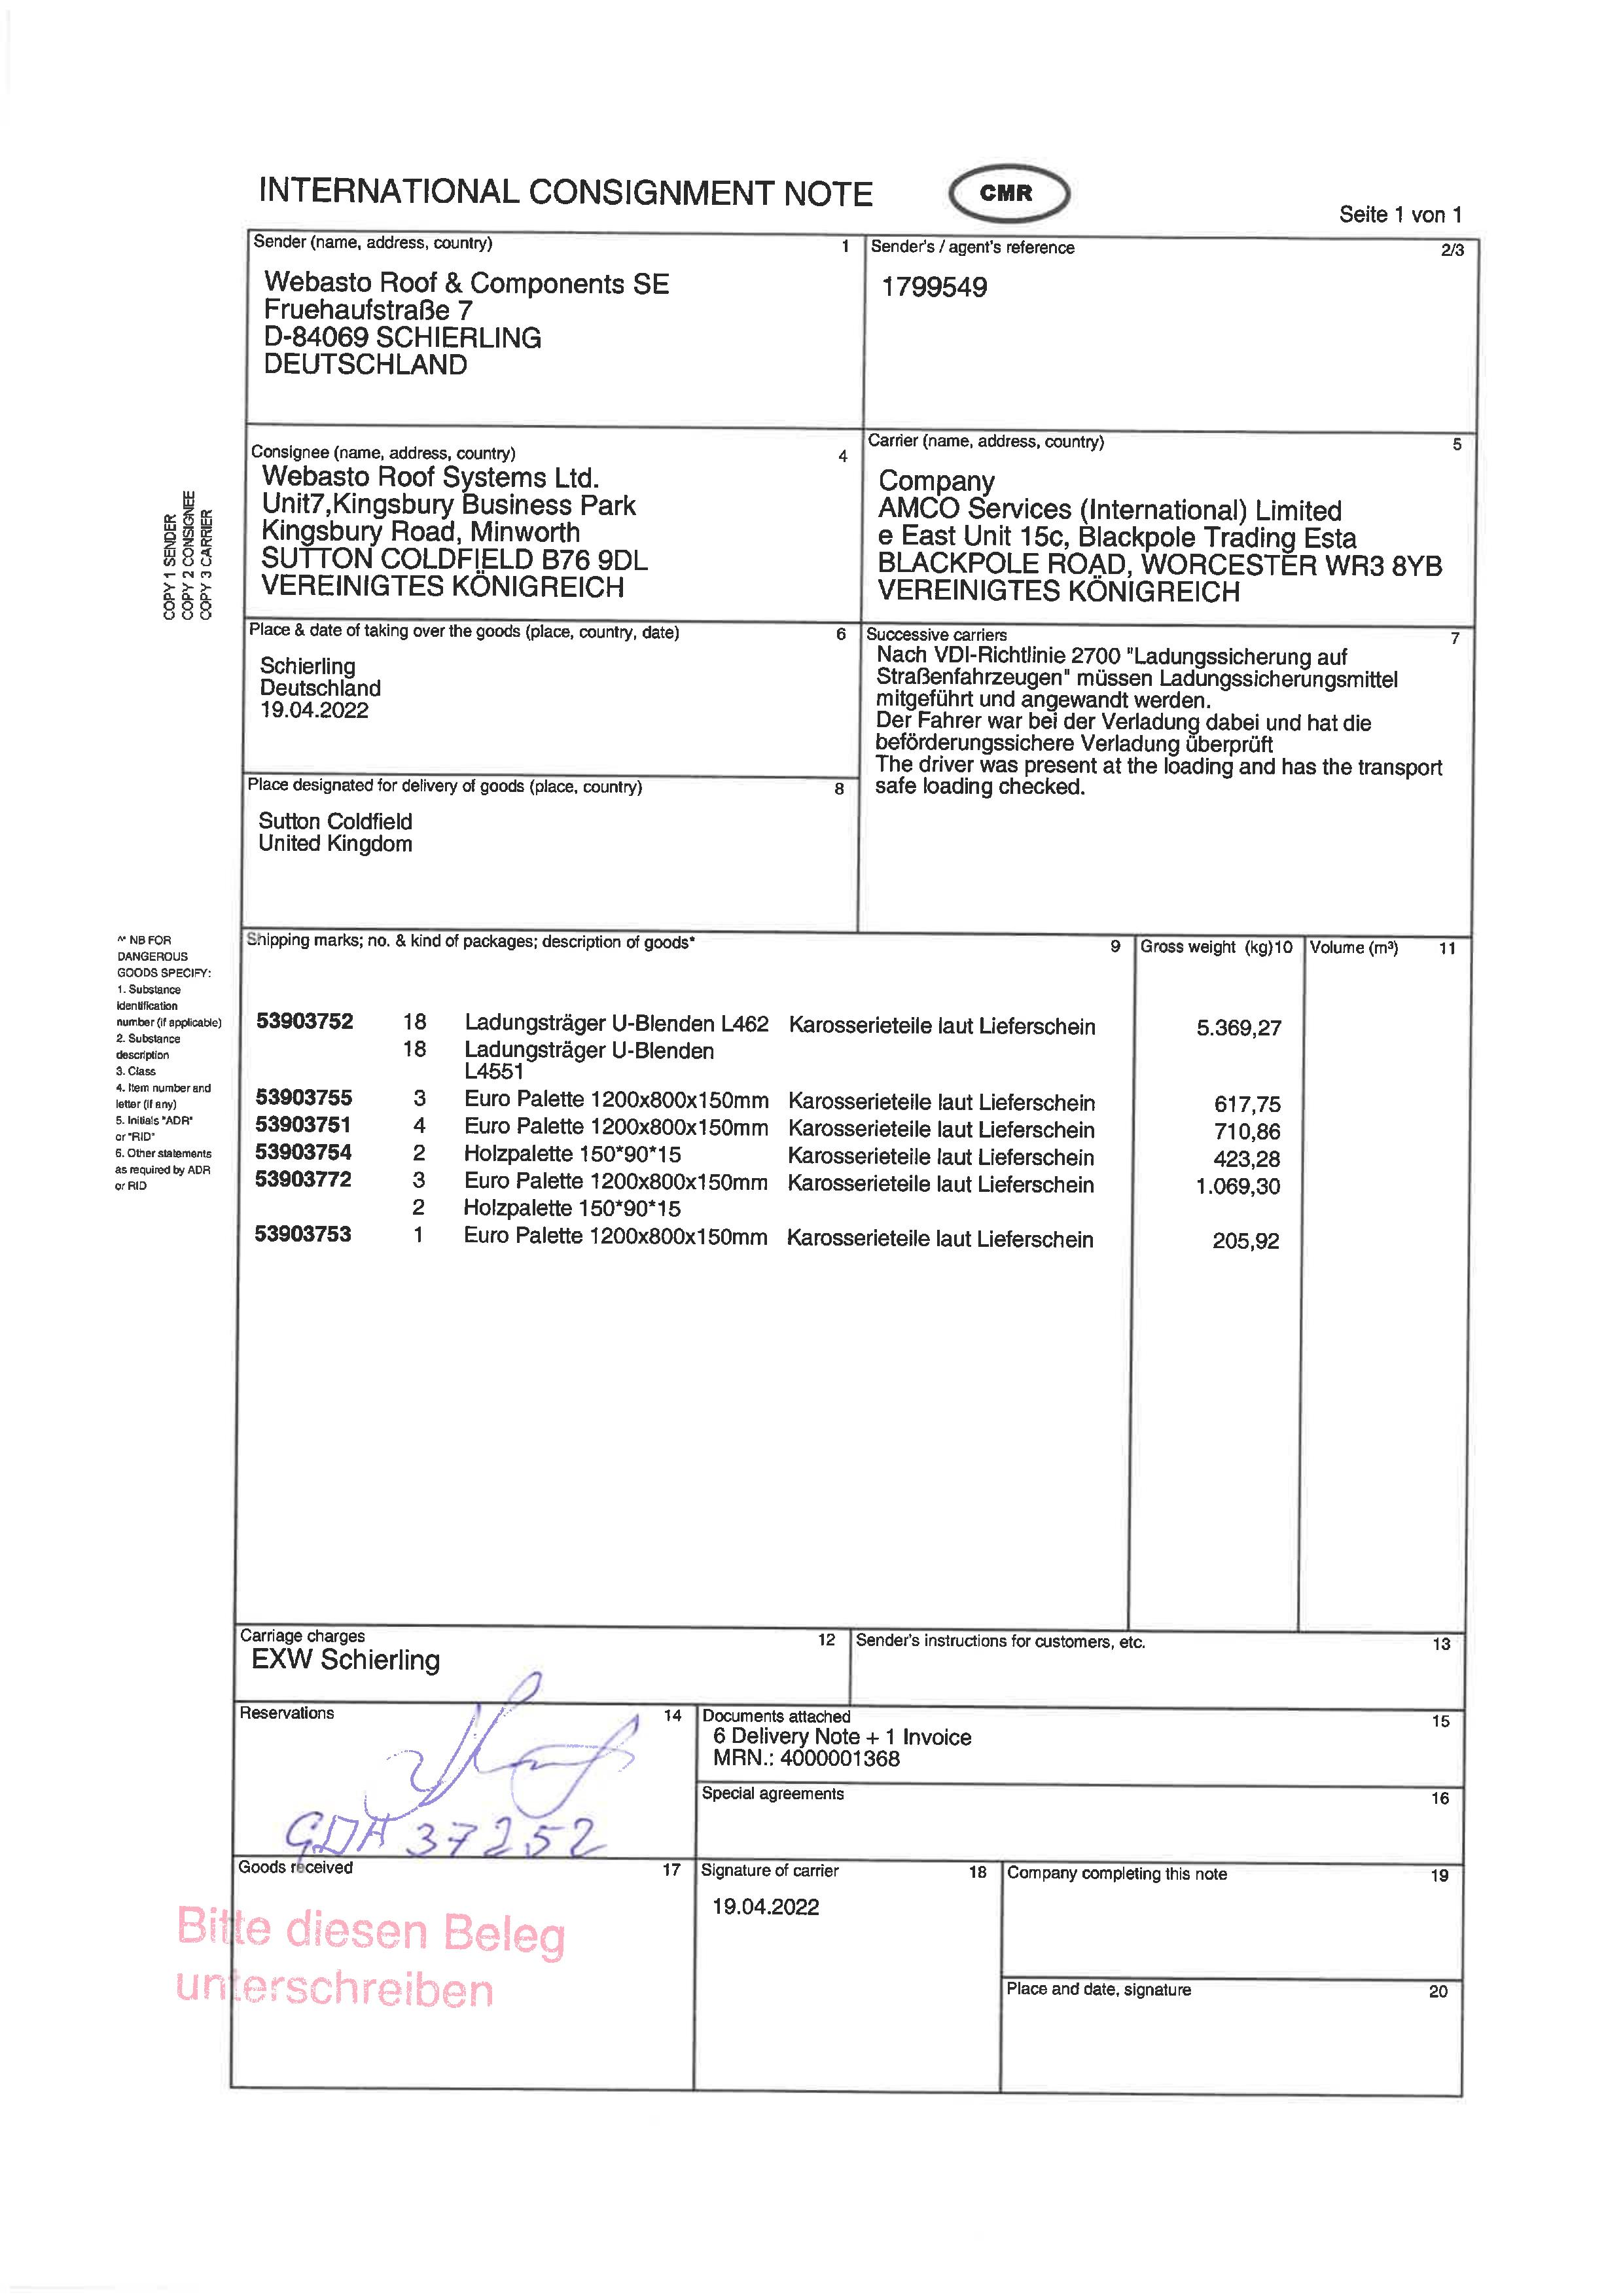B_Paragraph: (878, 645, 1456, 808), (873, 462, 1447, 617), (260, 260, 676, 404), (262, 466, 646, 604), (162, 1904, 573, 2018), (98, 921, 221, 1216), (706, 1727, 984, 1783), (256, 798, 429, 861), (153, 478, 221, 625), (253, 653, 385, 724), (880, 265, 1015, 320), (1303, 195, 1472, 235), (248, 1646, 441, 1681), (706, 1894, 826, 1929), (963, 176, 1068, 214)
B_SubTitle: (248, 620, 692, 650), (1001, 1855, 1249, 1897), (862, 423, 1121, 462), (256, 228, 508, 264), (850, 1635, 1152, 1662), (248, 434, 523, 462), (868, 235, 1082, 265), (1006, 1975, 1205, 2006), (696, 1855, 848, 1885), (704, 1700, 862, 1727), (234, 1627, 374, 1651), (228, 1853, 350, 1880), (701, 1785, 848, 1806), (868, 625, 1012, 646), (234, 1706, 339, 1730)
B_Table: (253, 935, 1470, 1281)
B_Title: (246, 156, 880, 221)
